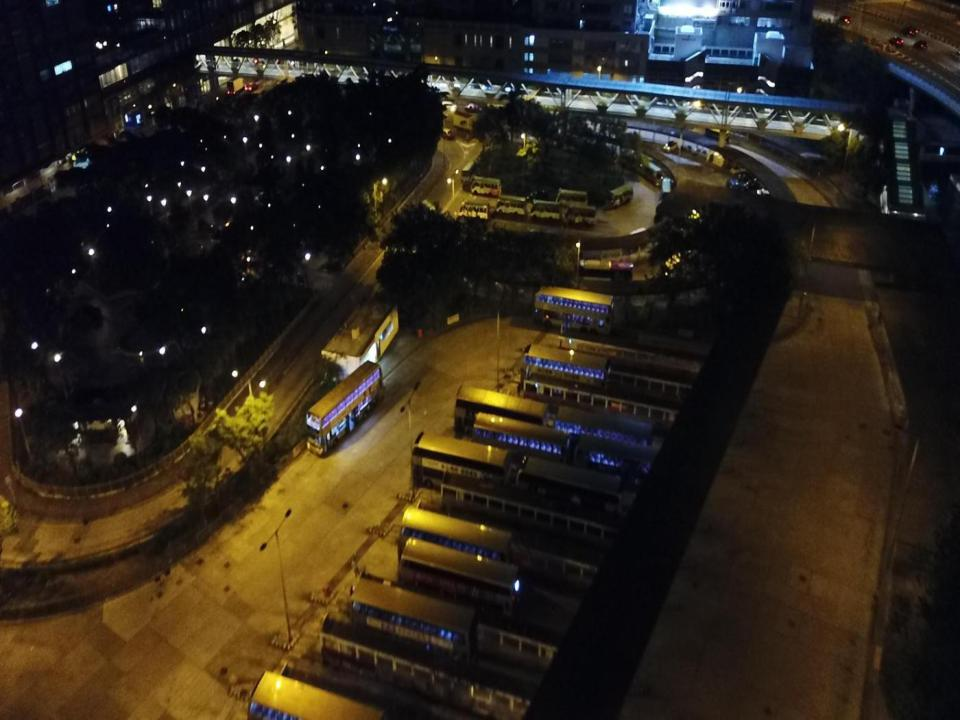bus: (349, 579, 477, 668), (396, 536, 520, 618), (398, 506, 514, 578), (307, 361, 381, 460), (516, 457, 620, 527), (249, 670, 385, 719), (411, 430, 511, 496), (554, 406, 655, 467), (570, 435, 668, 496), (470, 412, 568, 470), (454, 383, 549, 442), (523, 344, 610, 394), (534, 286, 614, 336), (572, 258, 633, 290), (530, 199, 562, 222), (494, 194, 526, 216), (564, 204, 596, 226), (605, 184, 633, 208), (556, 189, 588, 209), (459, 200, 490, 220), (471, 178, 501, 198), (640, 161, 662, 185), (704, 127, 730, 143), (462, 159, 478, 184), (661, 178, 671, 206)
car: (619, 150, 645, 174), (663, 140, 678, 152), (465, 102, 481, 112), (442, 128, 452, 140)
van: (527, 189, 549, 203), (442, 100, 456, 110)
